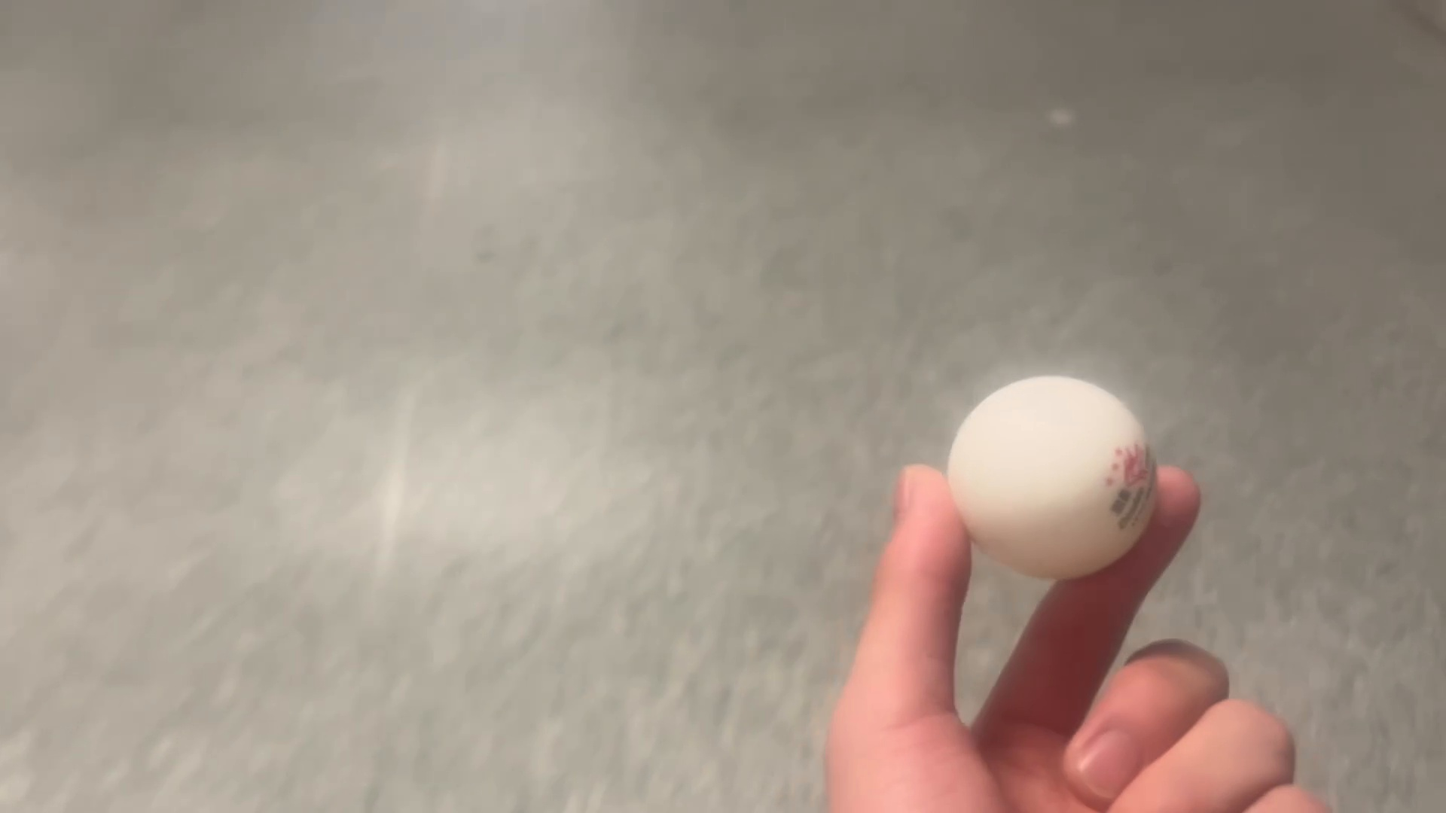Ball: (928, 353, 1181, 575)
